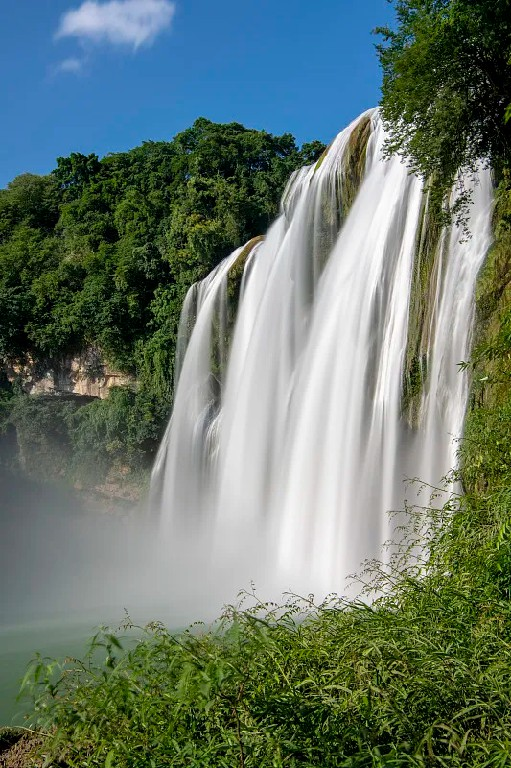Huangguoshu: (149, 107, 491, 604)
